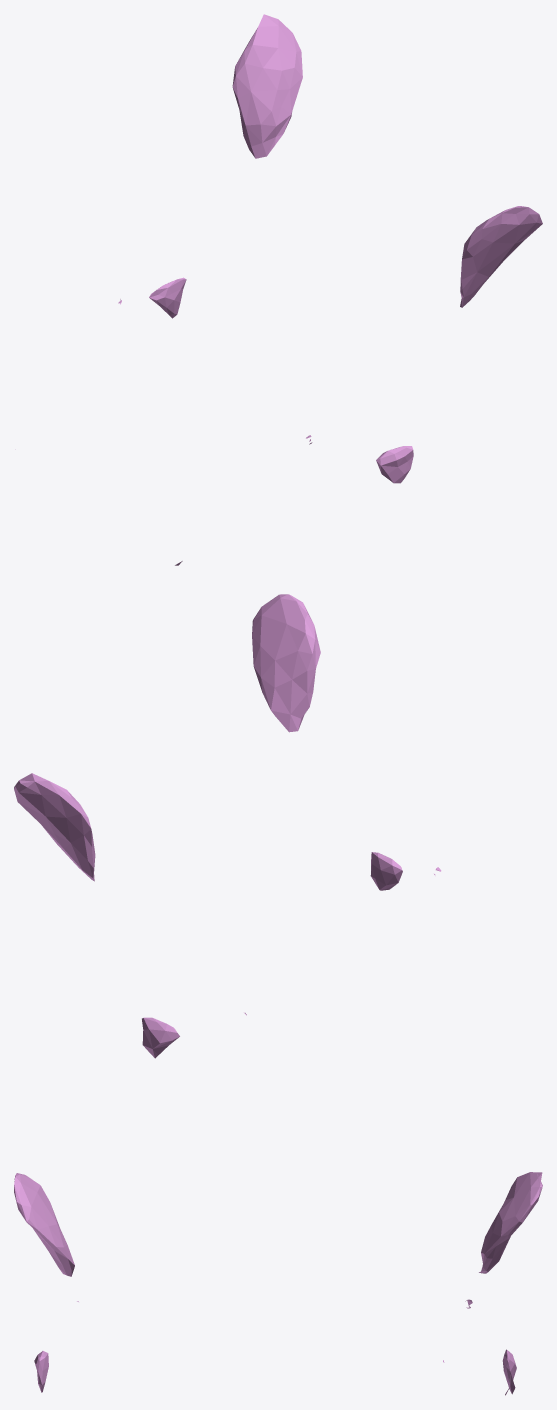
The picture shows the model from 3 angles, top to bottom: view 1: azimuth 30°, elevation 25°; view 2: azimuth 150°, elevation 25°; view 3: azimuth 270°, elevation 25°; orthographic projection. The views are drawn at different scales.
Visible parts, largest first — view 1: 460.obj; view 2: 460.obj; view 3: 460.obj.
Part boxes in pixels (x1,y1,x2,y2): 460.obj: (15, 14, 542, 565); 460.obj: (14, 594, 441, 1058); 460.obj: (14, 1172, 542, 1395).
Bounding box in the file's own units: 1585 × 1519 × 2140.
